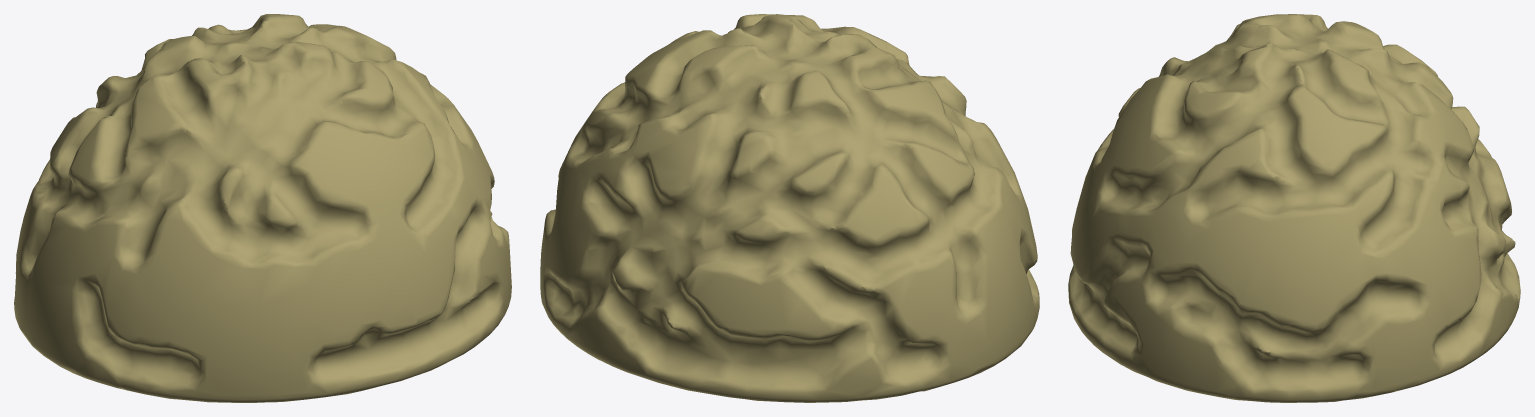
File: brain.glb
3 renders of one model, left to right at view 1: azimuth 30°, elevation 25°; view 2: azimuth 150°, elevation 25°; view 3: azimuth 270°, elevation 25°, orthographic. The views are drawn at different scales.
Visible parts, largest first — view 1: dome; view 2: dome; view 3: dome.
Boxes of the visible parts, bbox=[...] form: dome: bbox=[14, 14, 511, 402]; dome: bbox=[540, 14, 1039, 402]; dome: bbox=[1068, 14, 1520, 402].
Bounding box in the file's own units: 1.1 × 0.6419 × 0.9988.
